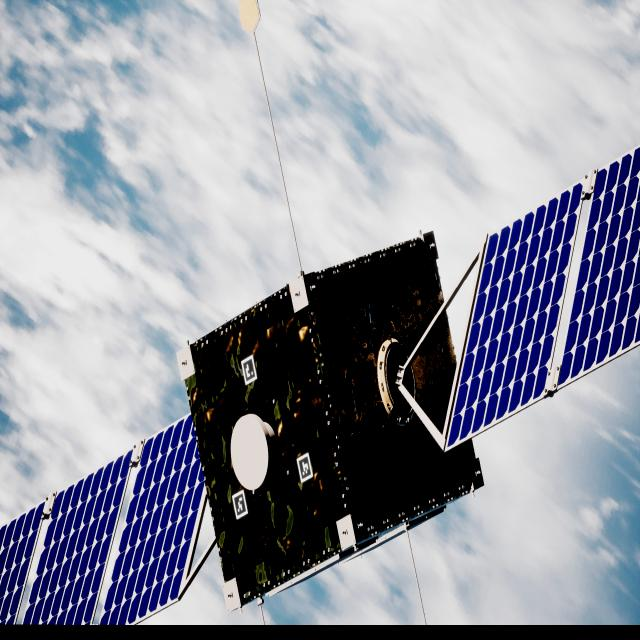medium_debris: (0, 148, 640, 627)
